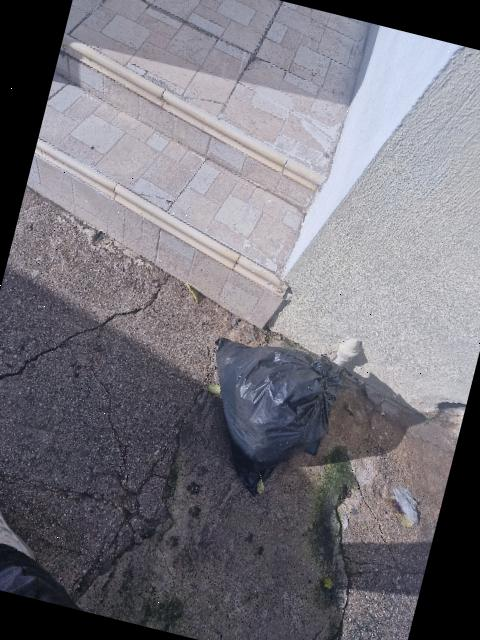Recyclable -Grey-: (216, 338, 342, 495)
